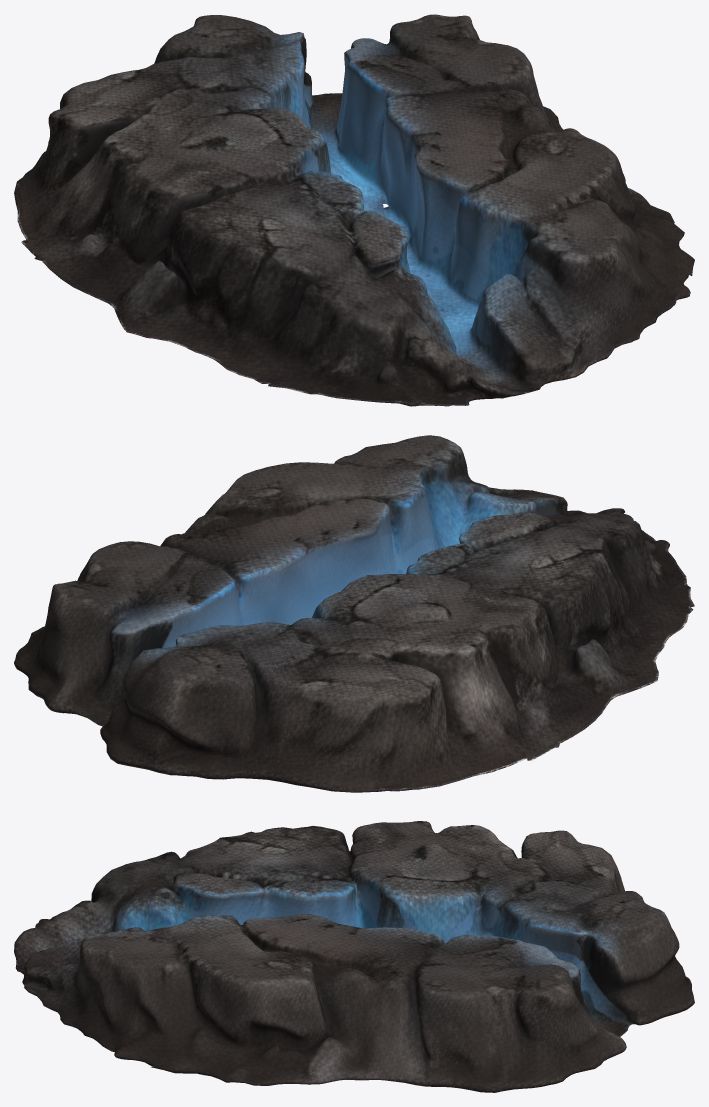
Rendered from RockFizzure_basic_pbr.glb.
3 views of the same model, one above another, from view 1: azimuth 30°, elevation 25°; view 2: azimuth 150°, elevation 25°; view 3: azimuth 270°, elevation 25° (orthographic). The views are drawn at different scales.
Parts seen in each view (by area): view 1: model; view 2: model; view 3: model.
Boxes of the visible parts, left/top/right/bottom form: model: left=14, top=14, right=694, bottom=406; model: left=14, top=435, right=694, bottom=792; model: left=14, top=821, right=694, bottom=1092.
Bounding box in the file's own units: 1.49 × 0.2636 × 1.89.
Materials: 1 (1 with a texture image).
